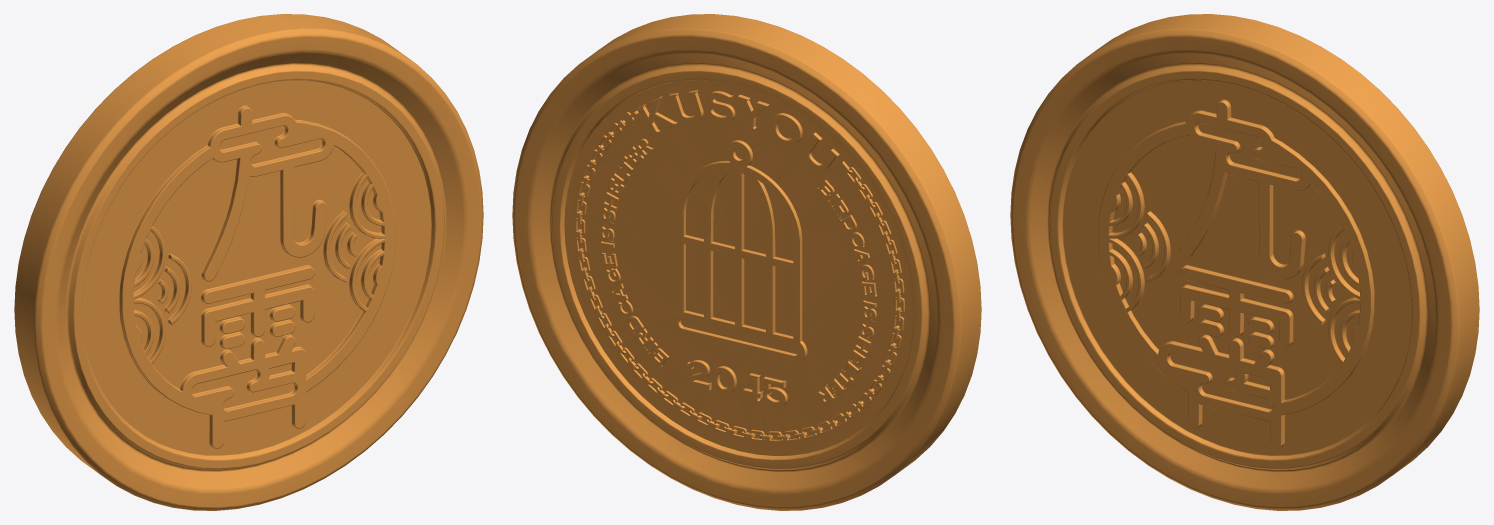
The model's file is kusyouCoin.glb.
The picture shows the model from 3 angles, left to right: view 1: azimuth 30°, elevation 25°; view 2: azimuth 150°, elevation 25°; view 3: azimuth 330°, elevation 25°; orthographic projection.
Parts seen in each view (by area): view 1: YX_Gold; view 2: YX_Gold; view 3: YX_Gold.
Boxes of the visible parts, x1,y1,x2,y2 form: YX_Gold: [14, 14, 483, 510]; YX_Gold: [512, 14, 981, 510]; YX_Gold: [1010, 14, 1479, 510].
Size of the model in its own units: 0.6117 by 0.6117 by 0.0612.
